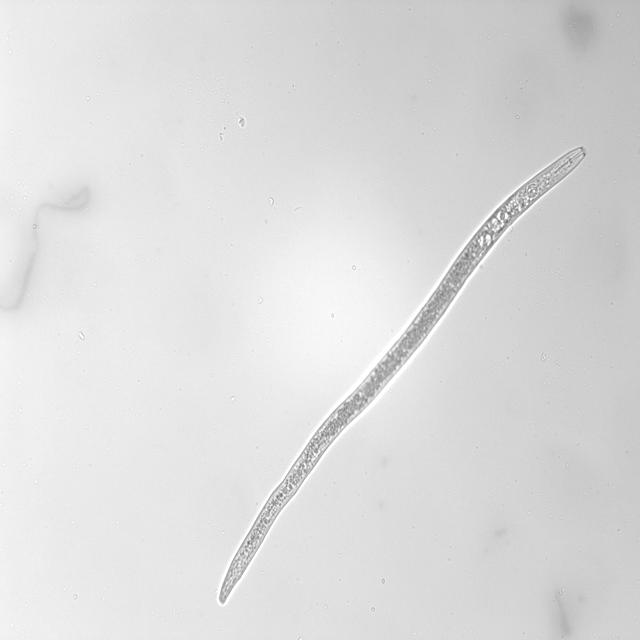Pratylenchus: (215, 138, 596, 610)
